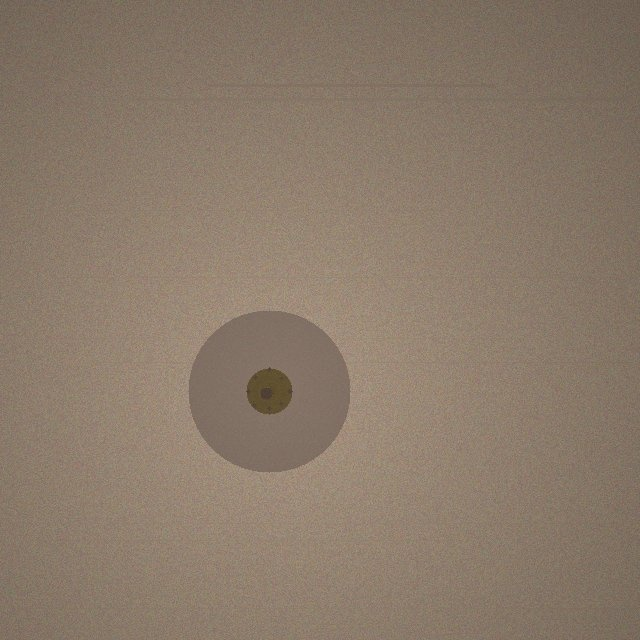cold_weld: (188, 310, 350, 472)
